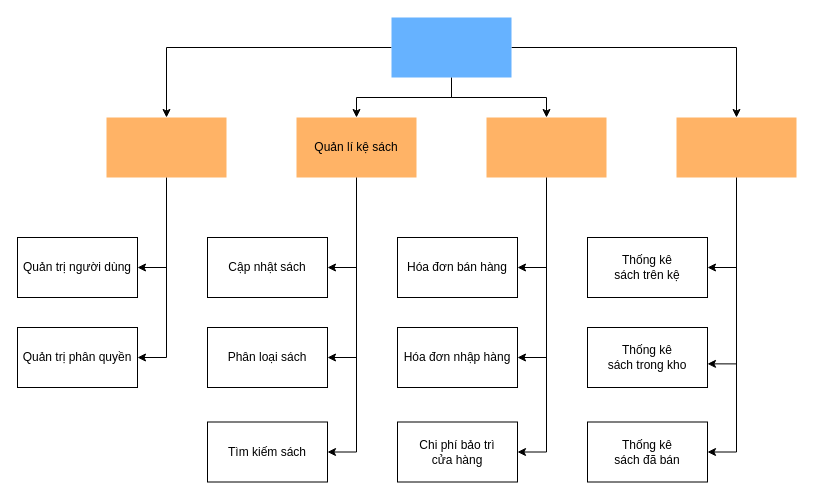
This 814x499 diagram has some shape labels left out. Each missing label, with the centre of its shape:
Quản lí hóa đơn: (x=546, y=147)
Quản lí hệ thống: (x=166, y=147)
Quản lí nhà sách: (x=451, y=47)
Thống kê: (x=736, y=147)
